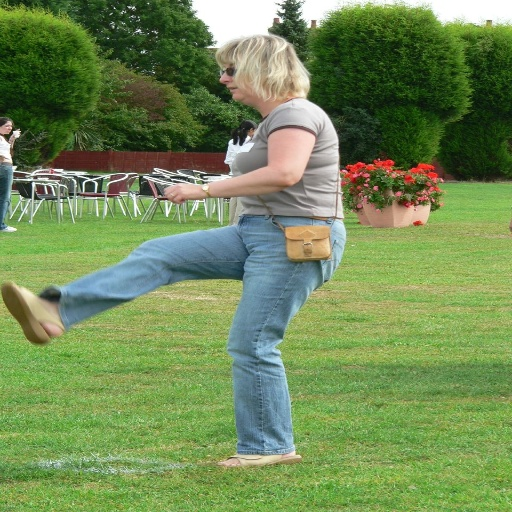hand: (152, 171, 219, 203), (11, 127, 19, 138)
